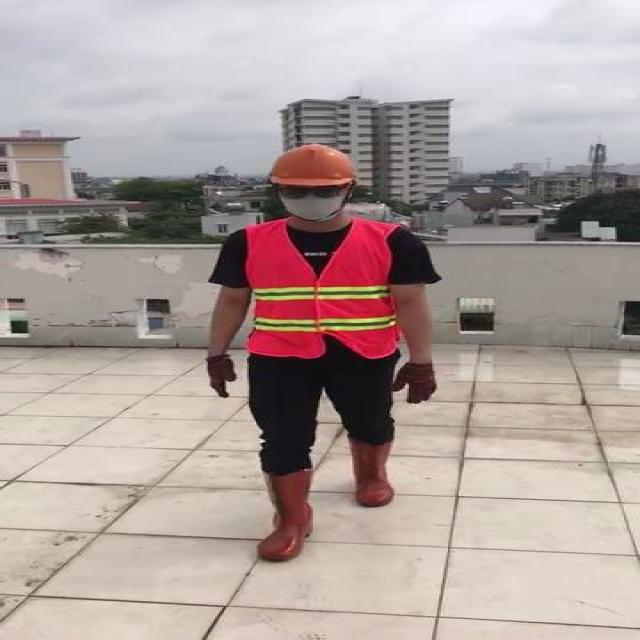boots: (252, 469, 314, 562), (348, 434, 394, 508)
face_mask: (278, 183, 346, 219)
glasses: (276, 183, 344, 201)
hand_glove: (393, 363, 437, 403), (204, 353, 237, 398)
head_helmet: (265, 142, 359, 188)
person: (196, 140, 444, 568)
vest: (249, 223, 398, 361)
